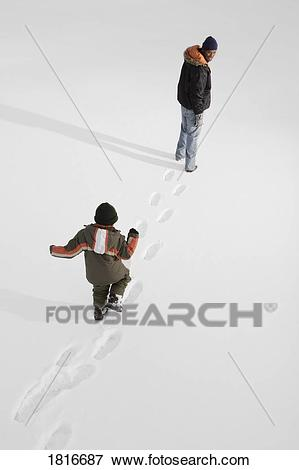Person: (48, 199, 148, 327), (172, 33, 221, 176)
